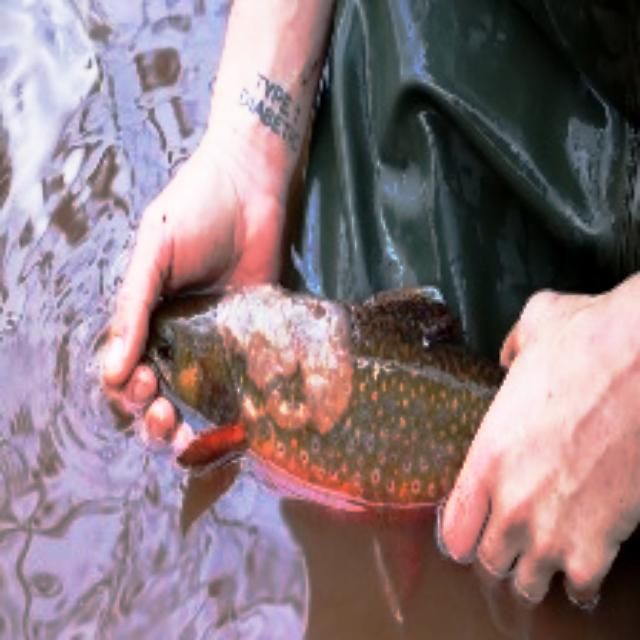Fungal Disease -Saprolegniasis-: (149, 285, 499, 506), (148, 286, 501, 503), (149, 289, 501, 504)
